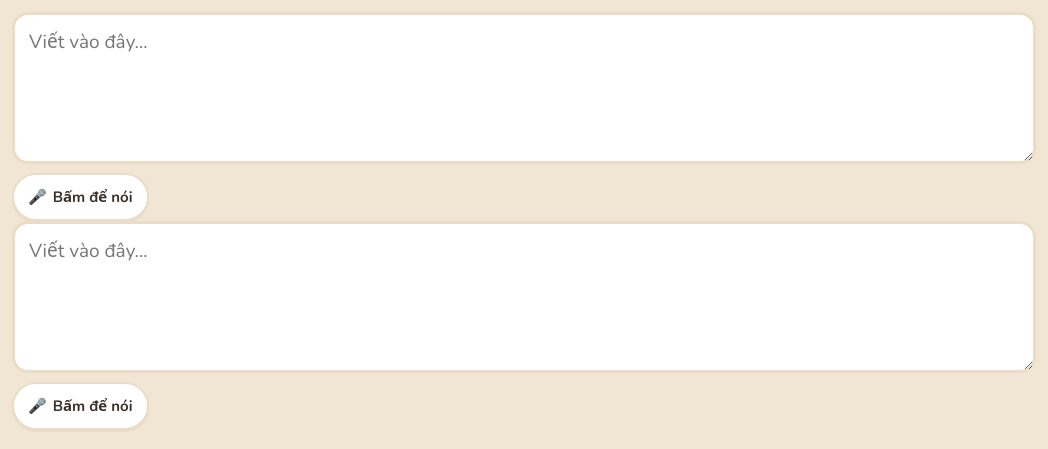
Test: voice typing (🎤 under a text box) › hides every 🎤 on the screen for good when the device has no Vietnamese recognition
Click the 1st button "🎤 Bấm để nói" at (80, 197), box x1=12 y1=173 x2=148 y2=221
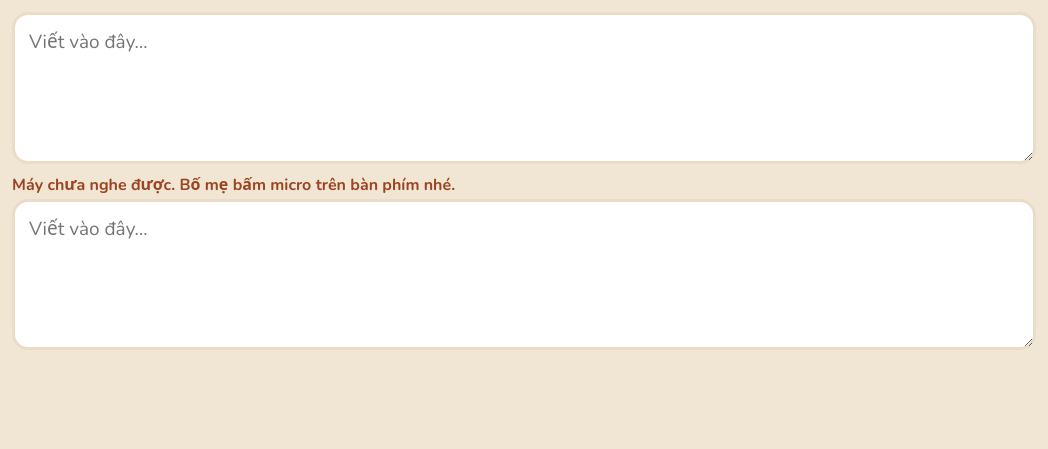
Check: the number of text boxes is 2, box x1=12 y1=12 x2=1036 y2=164; x1=12 y1=198 x2=1036 y2=350
Check: no buttons are shown
Check: the message reads "Máy chưa nghe được. Bố mẹ bấm micro trên bàn phím nhé.", box x1=12 y1=174 x2=455 y2=196
